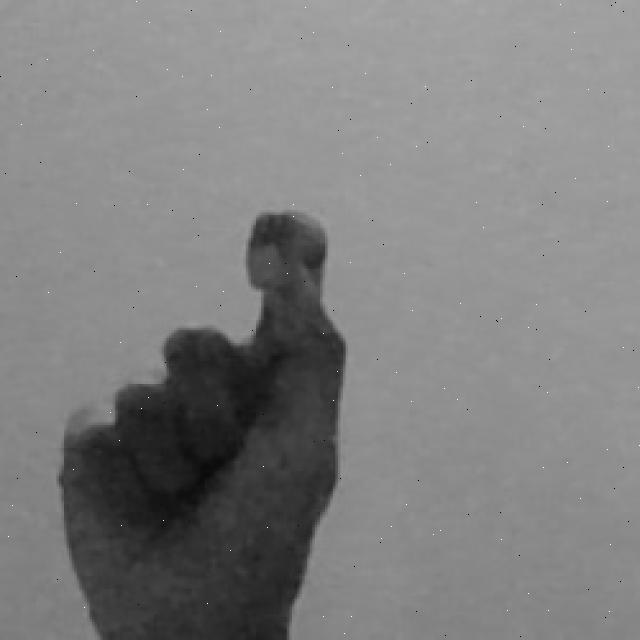T: (44, 205, 351, 640)
